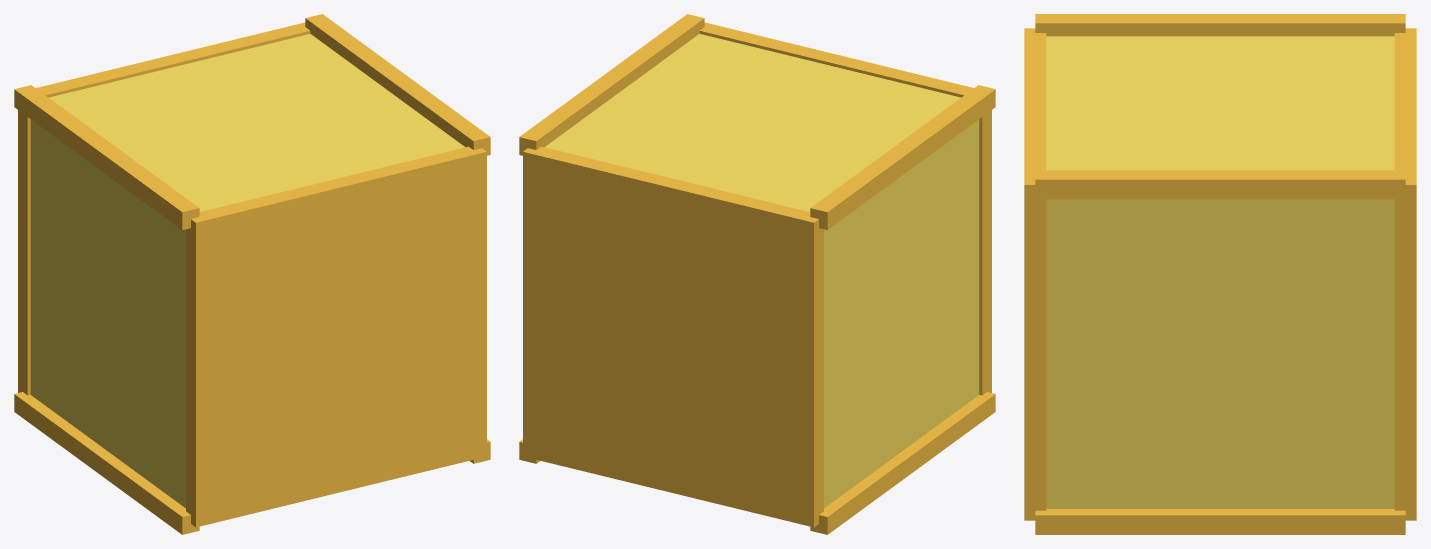
Rendered from mystery_crate.glb.
3 renders of one model, left to right at view 1: azimuth 30°, elevation 25°; view 2: azimuth 150°, elevation 25°; view 3: azimuth 270°, elevation 25°, orthographic. The views are drawn at different scales.
Parts seen in each view (by area): view 1: gold_5, crate, gold_4, gold_1, gold, gold_3; view 2: gold_4, crate, gold_5, gold_1, gold, gold_3; view 3: crate, gold_3, gold_4, gold_5, gold_2, gold_1.
Part boxes in pixels (bbox=[...]): gold_5: bbox=[186, 146, 486, 527]; crate: bbox=[30, 33, 464, 508]; gold_4: bbox=[18, 22, 310, 395]; gold_1: bbox=[14, 85, 199, 229]; gold: bbox=[14, 392, 199, 534]; gold_3: bbox=[305, 14, 490, 155]; gold_4: bbox=[523, 146, 823, 527]; crate: bbox=[545, 33, 979, 508]; gold_5: bbox=[699, 22, 991, 395]; gold_1: bbox=[810, 85, 995, 229]; gold: bbox=[810, 392, 995, 534]; gold_3: bbox=[519, 14, 704, 155]; crate: bbox=[1046, 36, 1394, 508]; gold_3: bbox=[1035, 170, 1405, 199]; gold_4: bbox=[1394, 28, 1416, 520]; gold_5: bbox=[1024, 28, 1046, 520]; gold_2: bbox=[1035, 509, 1405, 534]; gold_1: bbox=[1035, 14, 1405, 36].
Size of the model in its own units: 1.08 by 1.18 by 1.08.
